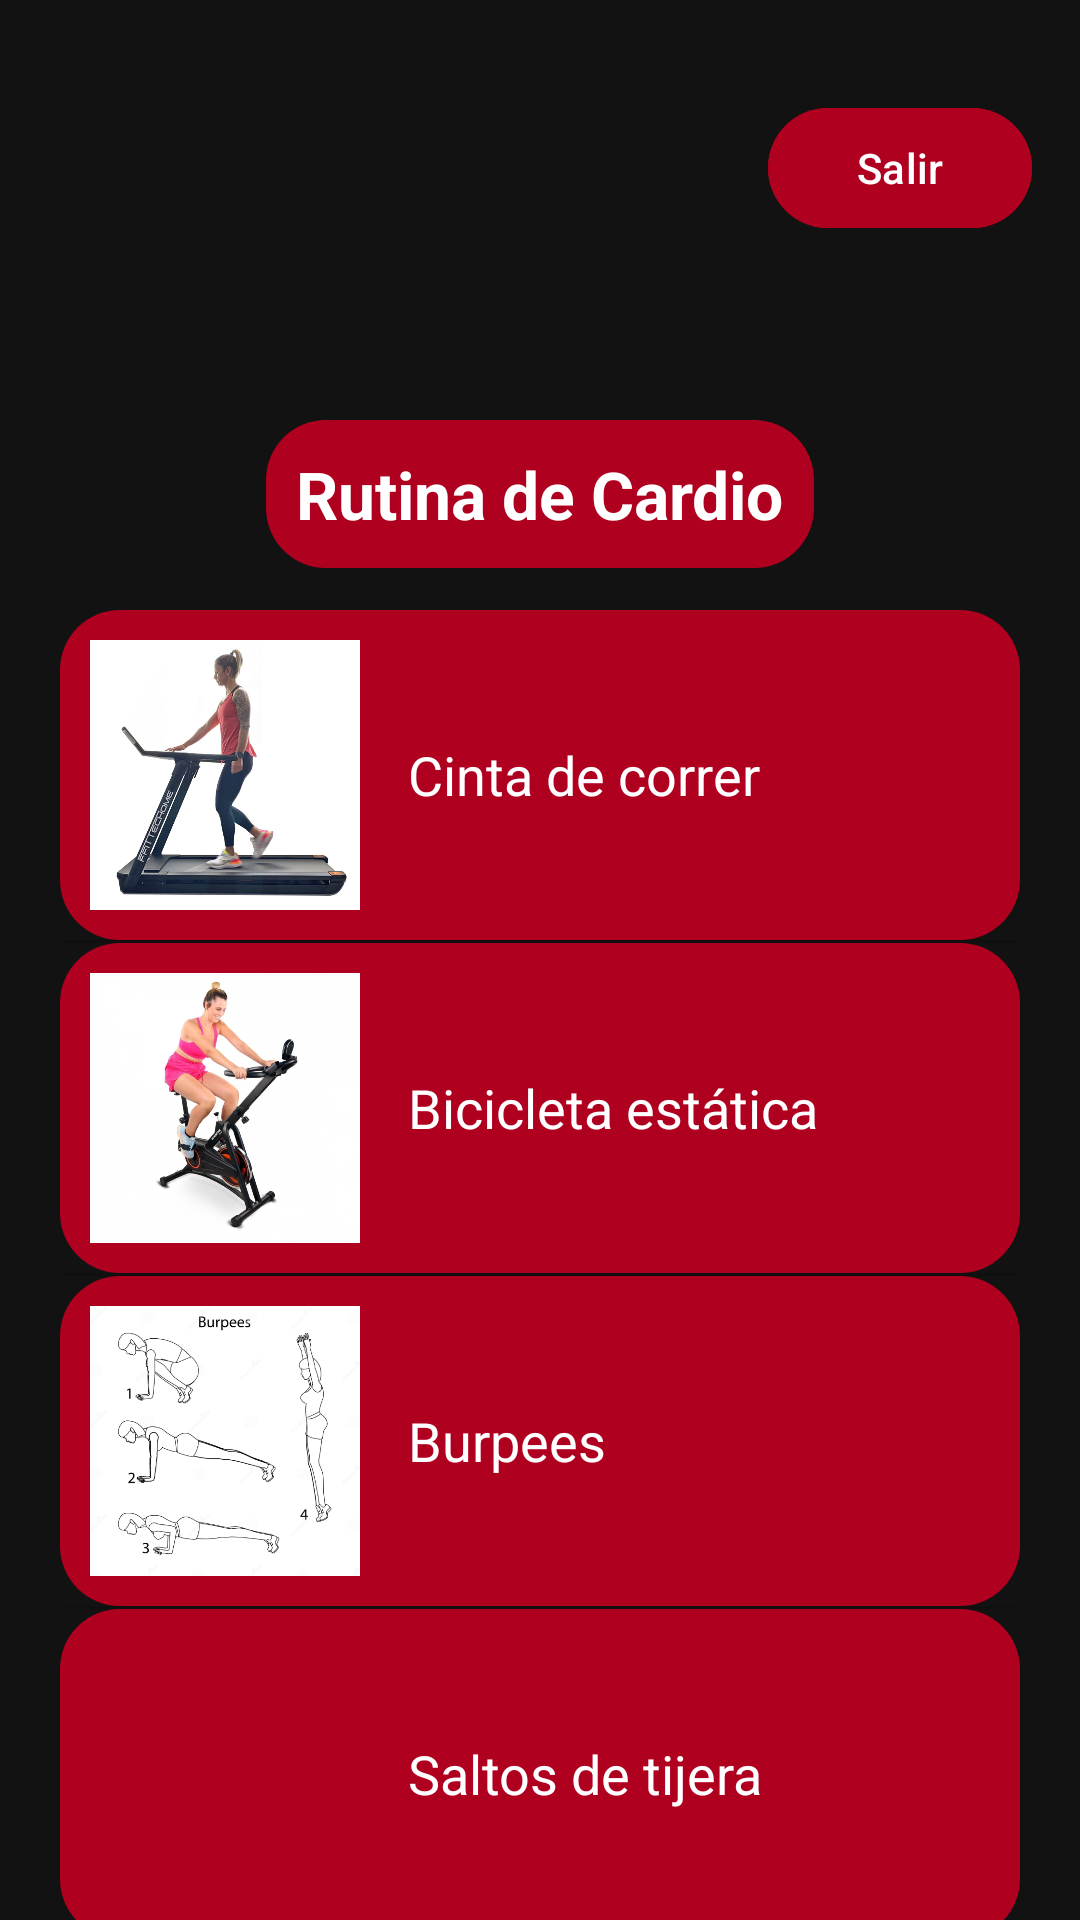

Screen size 1080 × 1920. Icon name, then its box in pixels as (x1, y1, x2, y2):
Ejercicio 1: (90, 640, 360, 910)
Ejercicio 2: (90, 973, 360, 1243)
Ejercicio 3: (90, 1306, 360, 1576)
